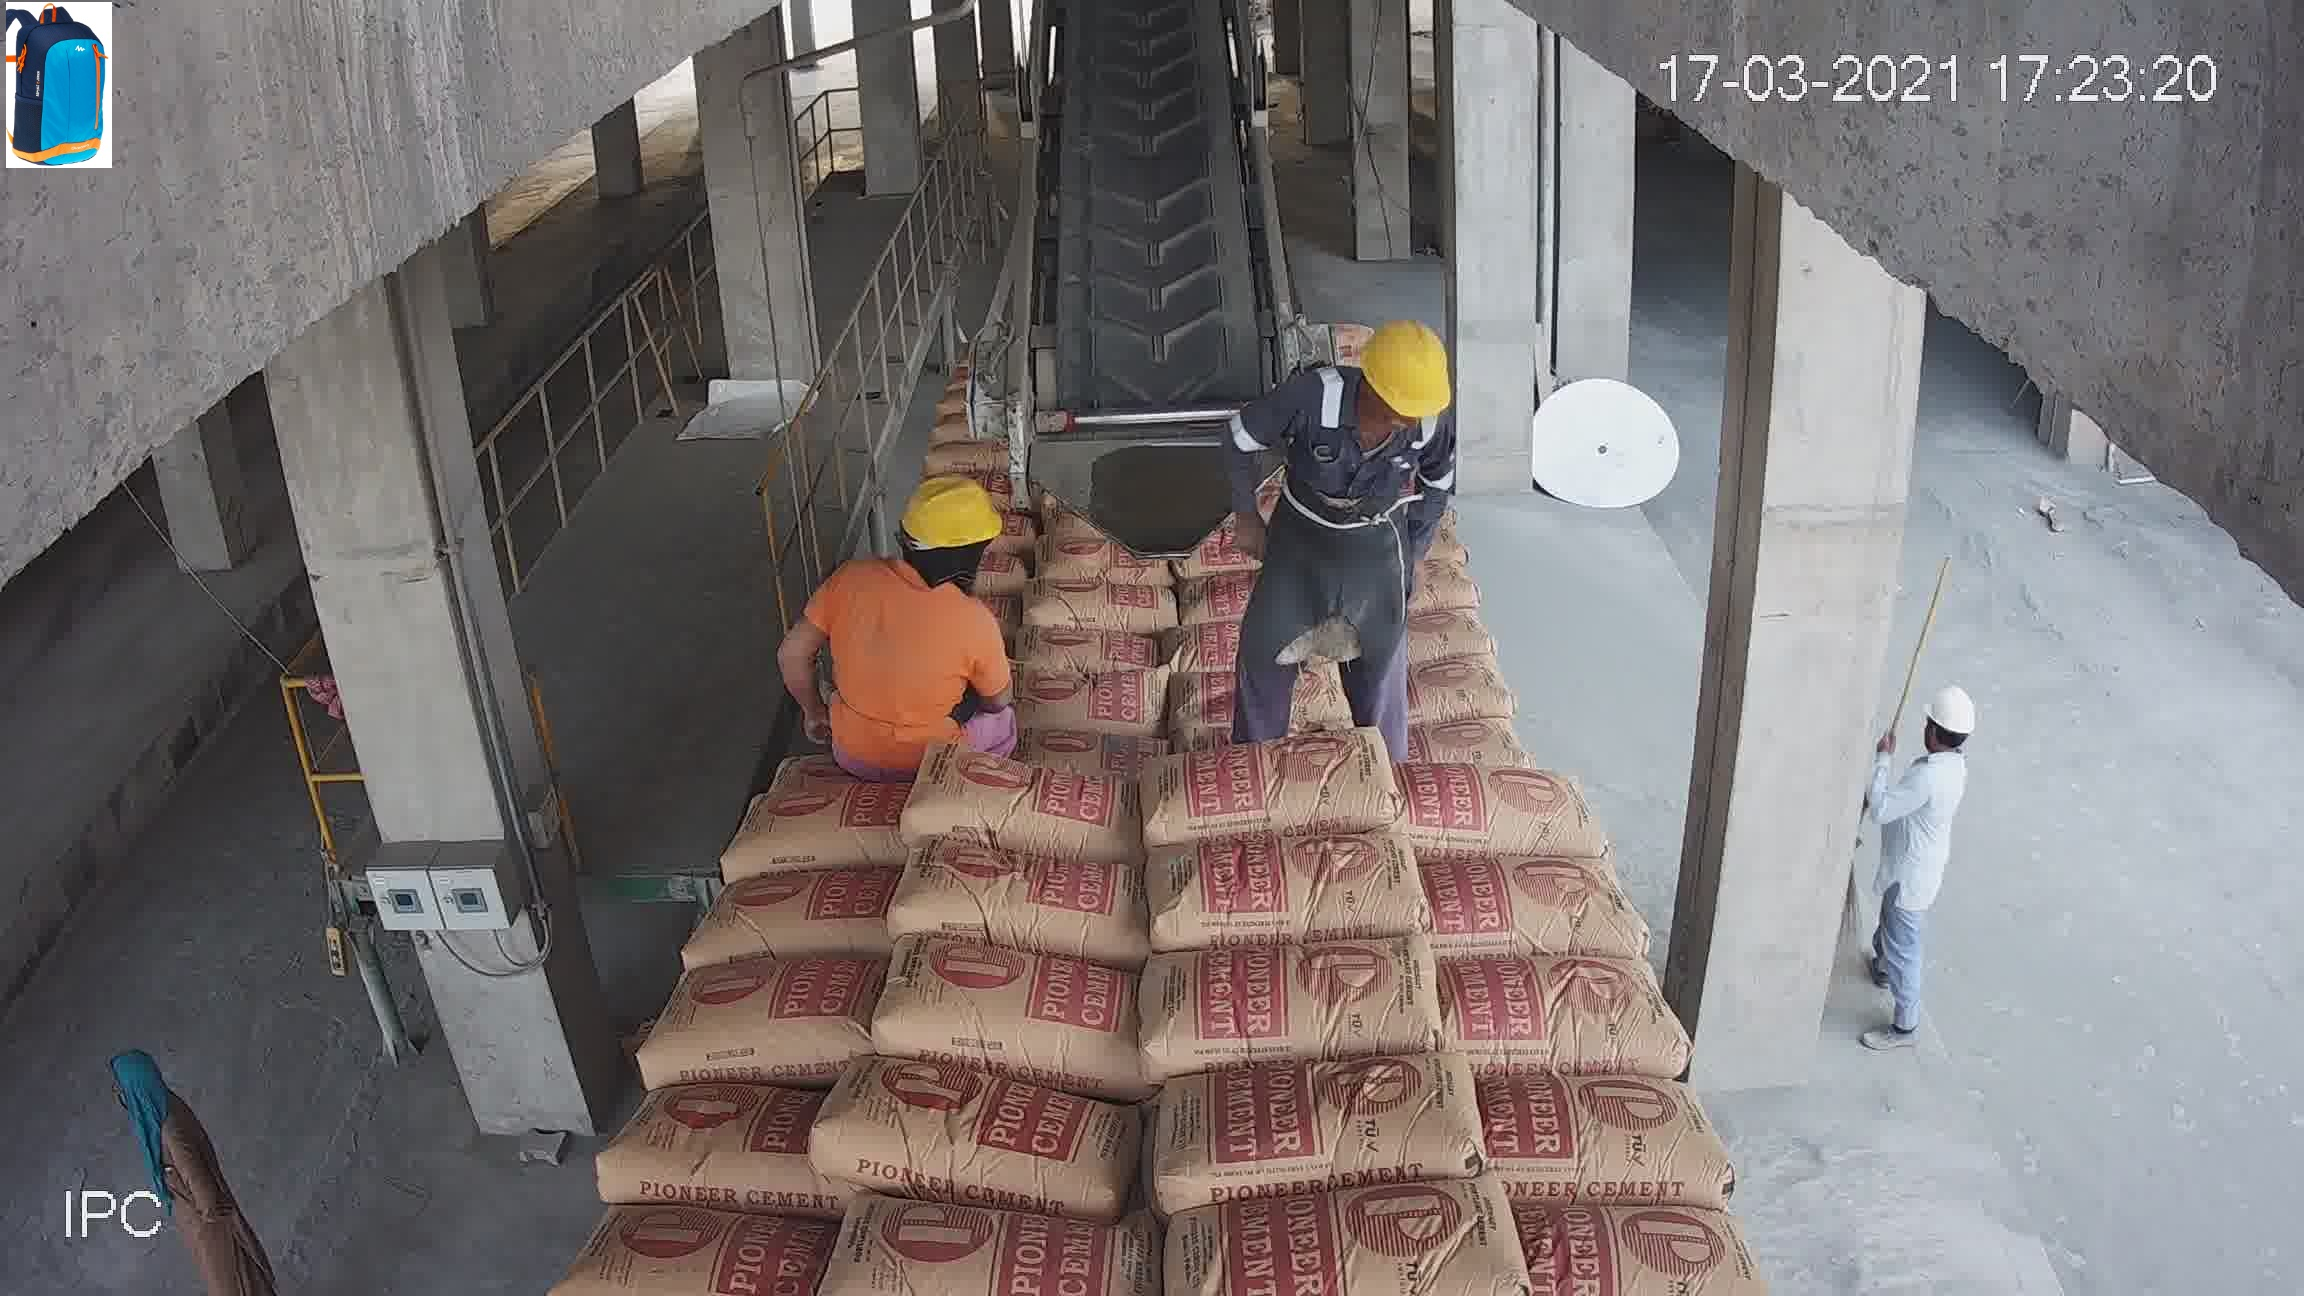bag: (1033, 394, 1201, 510), (1100, 60, 1204, 146)
bag_h: (1146, 1048, 1484, 1196), (813, 1048, 1127, 1201), (1152, 927, 1454, 1062), (1131, 1195, 1525, 1294), (641, 945, 916, 1073), (1155, 818, 1424, 946), (1155, 718, 1399, 851), (1499, 1071, 1726, 1212), (891, 850, 1166, 959), (889, 760, 1131, 872), (880, 956, 1135, 1055), (1412, 855, 1655, 954), (593, 1082, 818, 1190), (1423, 957, 1673, 1052), (1502, 1209, 1764, 1293), (1385, 761, 1608, 858), (817, 1231, 1146, 1293), (1160, 584, 1397, 666), (544, 1222, 809, 1294), (1362, 604, 1551, 701), (1377, 676, 1582, 763), (718, 722, 943, 801), (695, 869, 900, 954), (1163, 668, 1380, 748), (953, 676, 1161, 756), (794, 627, 961, 726), (980, 608, 1166, 695), (733, 783, 885, 878), (1180, 508, 1351, 585), (1359, 549, 1500, 620), (801, 581, 964, 639), (975, 560, 1158, 611), (902, 505, 1019, 555), (916, 457, 999, 514), (1195, 451, 1298, 495)
belt: (1044, 21, 1245, 380)
